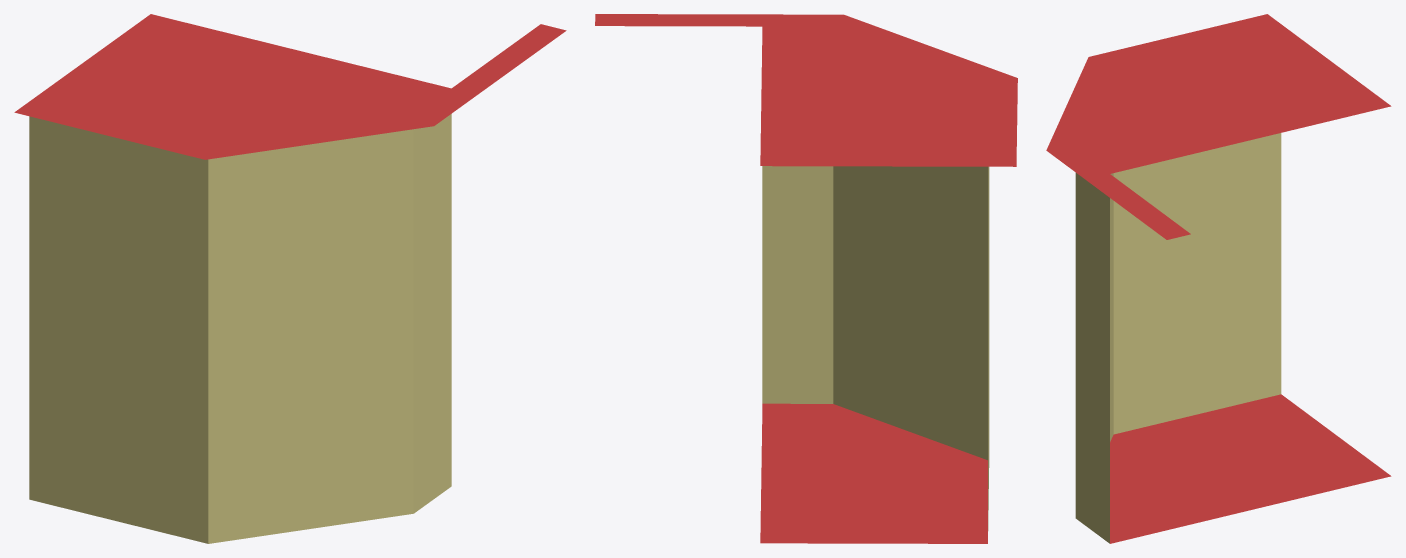
3 renders of one model, left to right at view 1: azimuth 30°, elevation 25°; view 2: azimuth 150°, elevation 25°; view 3: azimuth 270°, elevation 25°, orthographic. The views are drawn at different scales.
Size of the model in its own units: 9.54 by 6.16 by 7.28.
